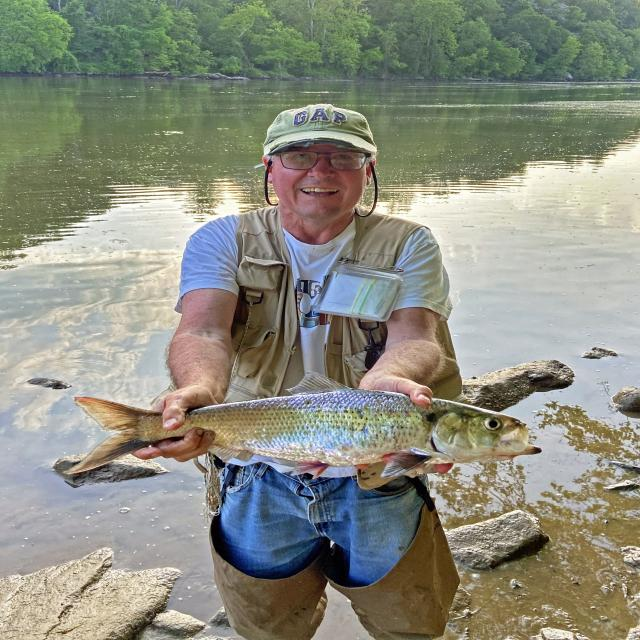Shad - American: (64, 388, 540, 478)
